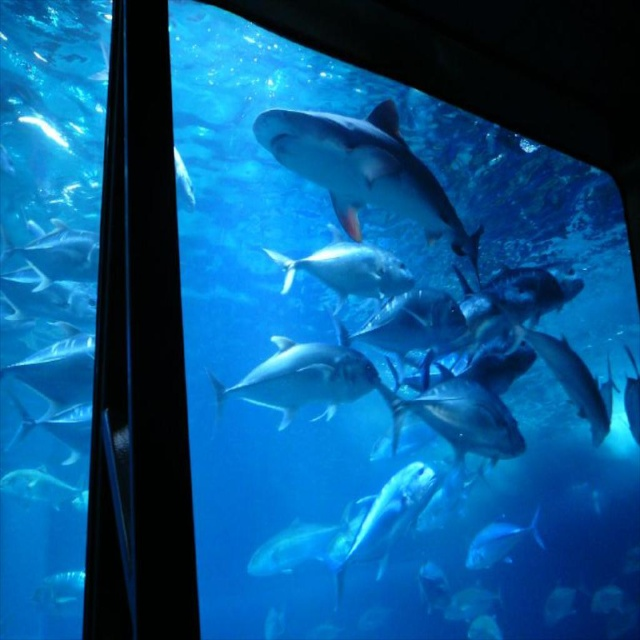Shark: (250, 101, 480, 287)
